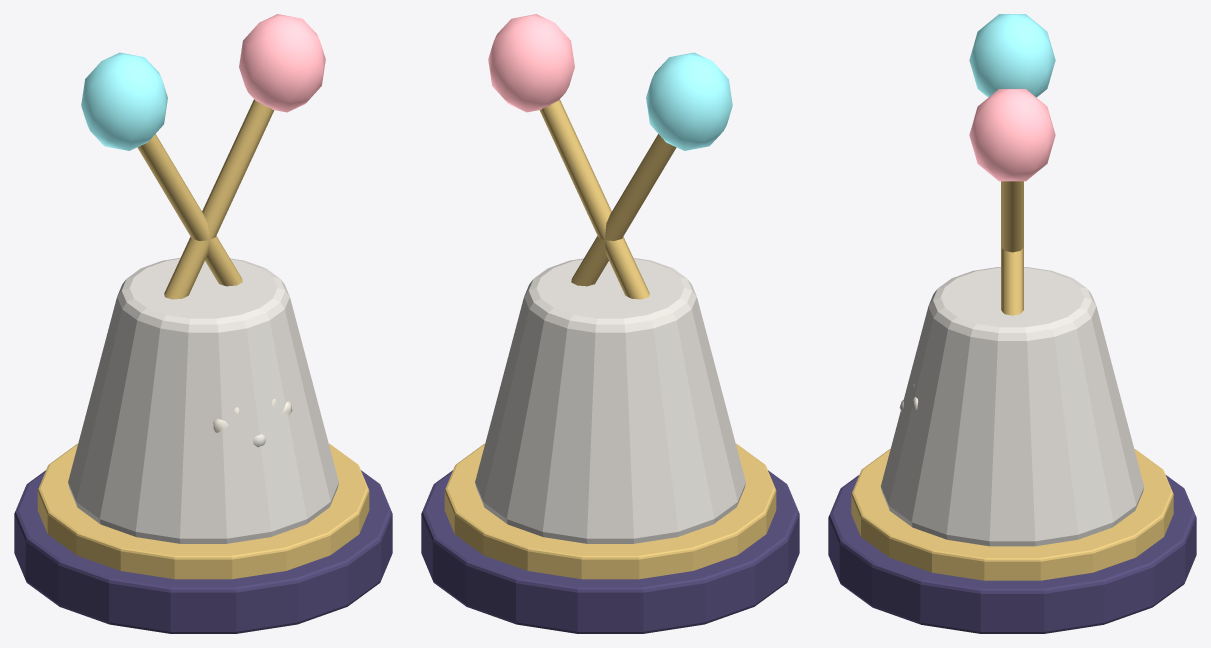
File: pearl_music_mallet_stand.glb
3 renders of one model, left to right at view 1: azimuth 30°, elevation 25°; view 2: azimuth 150°, elevation 25°; view 3: azimuth 270°, elevation 25°, orthographic. The views are drawn at different scales.
Visible parts, largest first — view 1: pearl_music_mallet_stand.001; view 2: pearl_music_mallet_stand.001; view 3: pearl_music_mallet_stand.001.
Part boxes in pixels (x1,y1,x2,y2): pearl_music_mallet_stand.001: (14,14,392,633); pearl_music_mallet_stand.001: (421,14,799,633); pearl_music_mallet_stand.001: (828,14,1196,633).
Size of the model in its own units: 3.19 by 4.92 by 3.24.
